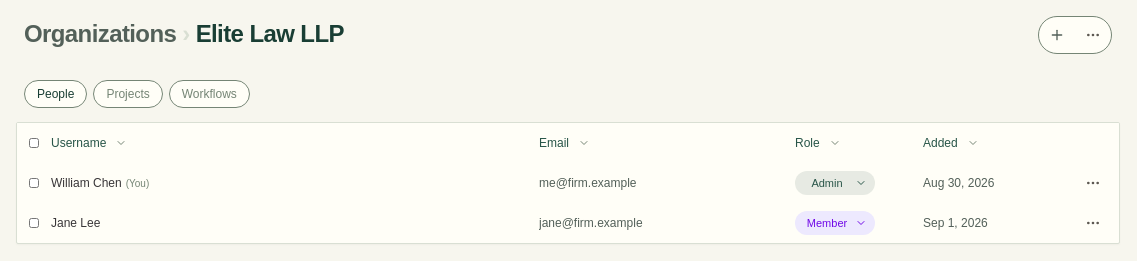
Scenario: OrganizationWorkspace › warns an admin who includes themselves in bulk removal
The image size is (1137, 261).
Expected: the text "William Chen" is shown, x1=51 y1=175 x2=122 y2=191
What coordinates should you click on to do the following:
click the checkbox named "Select William Chen"
I would click on:
 (34, 183)
Its box is x1=29 y1=178 x2=39 y2=188.
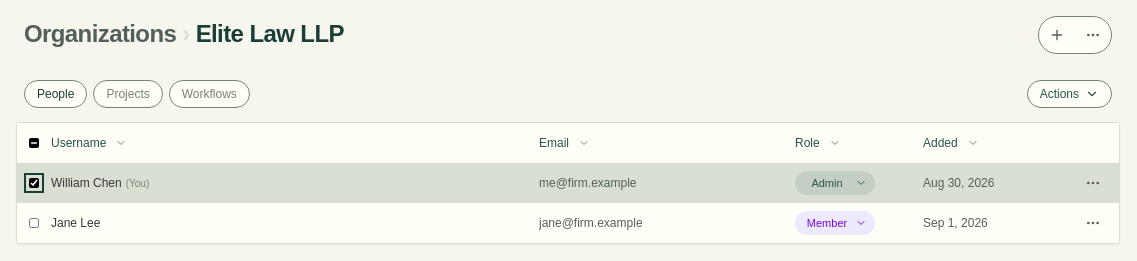
What coordinates should you click on to do the following:
click the button "Actions"
I would click on:
 (1069, 94)
Its box is x1=1027 y1=80 x2=1112 y2=108.
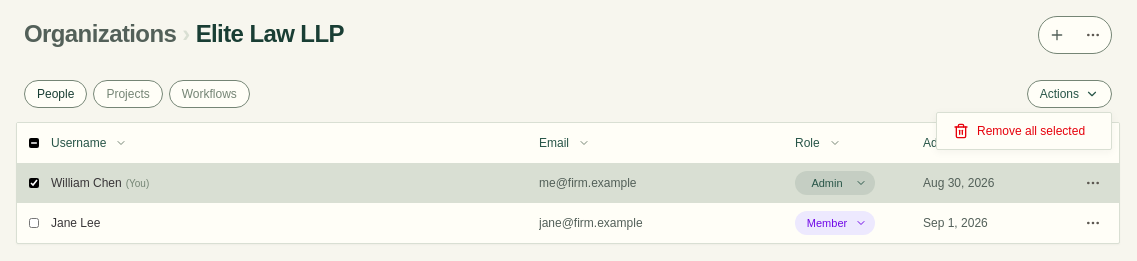
What coordinates should you click on to do the following:
click the menu item "Remove all selected"
I would click on:
 (1019, 131)
Its box is x1=953 y1=123 x2=1085 y2=139.
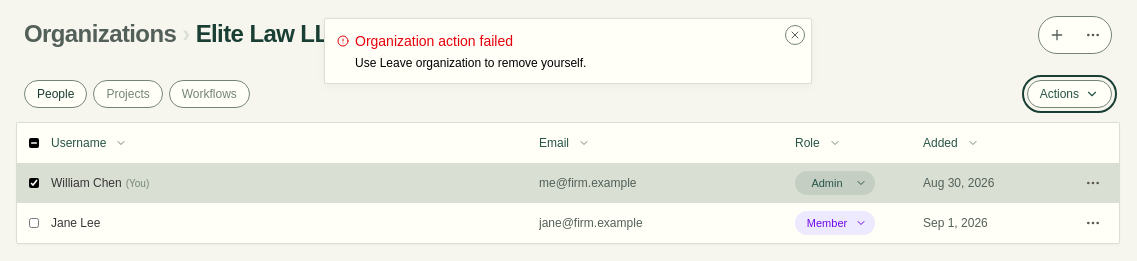
Expected: the text "Use Leave organization to remove yourself." is shown, x1=355 y1=56 x2=586 y2=70
